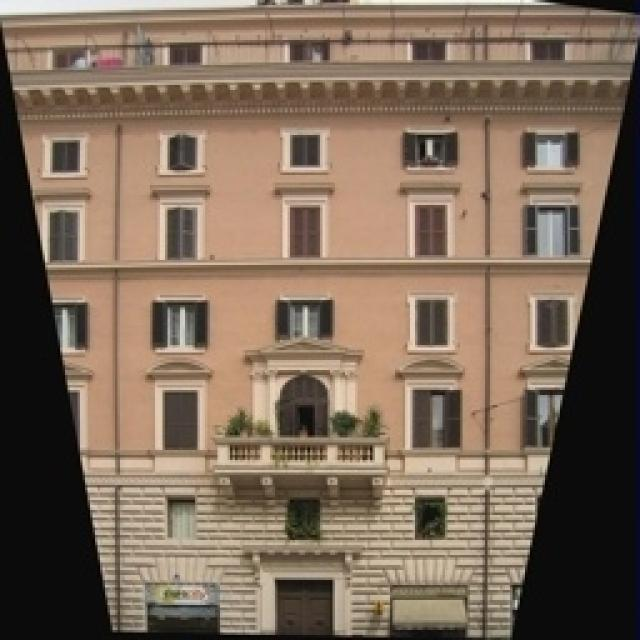building: (10, 2, 635, 640)
